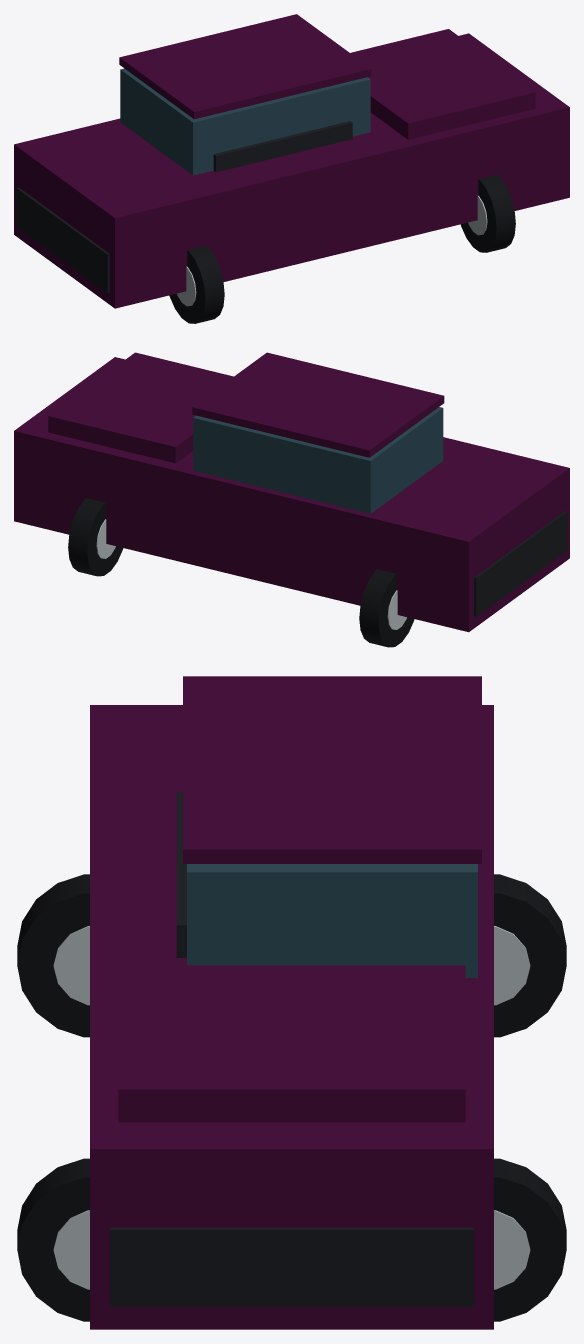
The model's file is chevy_brightdrop_400.glb.
The picture shows the model from 3 angles, top to bottom: view 1: azimuth 30°, elevation 25°; view 2: azimuth 150°, elevation 25°; view 3: azimuth 270°, elevation 25°; orthographic projection. The views are drawn at different scales.
Visible parts, largest first — view 1: body, roof, hood, cabin, rear_bumper, front_right_wheel, rear_right_wheel, interior; view 2: body, roof, cabin, hood, rear_bumper, front_left_wheel, rear_left_wheel; view 3: body, roof, hood, cabin, front_bumper, front_left_wheel, front_right_wheel, rear_left_wheel, rear_right_wheel, interior.
Boxes of the visible parts, <box> form: body: <box>14,33,569,308</box>; roof: <box>119,14,371,119</box>; hood: <box>350,29,535,139</box>; cabin: <box>120,68,370,175</box>; rear_bumper: <box>16,187,109,292</box>; front_right_wheel: <box>460,174,515,252</box>; rear_right_wheel: <box>169,245,224,323</box>; interior: <box>213,121,352,172</box>; body: <box>14,357,569,632</box>; roof: <box>192,352,444,457</box>; cabin: <box>193,407,443,513</box>; hood: <box>48,352,233,463</box>; rear_bumper: <box>474,511,567,616</box>; front_left_wheel: <box>68,498,123,576</box>; rear_left_wheel: <box>359,569,414,647</box>; body: <box>90,705,493,1329</box>; roof: <box>183,676,481,863</box>; hood: <box>118,965,465,1122</box>; cabin: <box>187,864,477,977</box>; front_bumper: <box>110,1227,473,1306</box>; front_left_wheel: <box>494,1158,566,1321</box>; front_right_wheel: <box>17,1158,89,1321</box>; rear_left_wheel: <box>494,874,566,1037</box>; rear_right_wheel: <box>17,874,89,1037</box>; interior: <box>176,792,186,957</box>.
Size of the model in its own units: 5.26 by 2.03 by 2.72.
